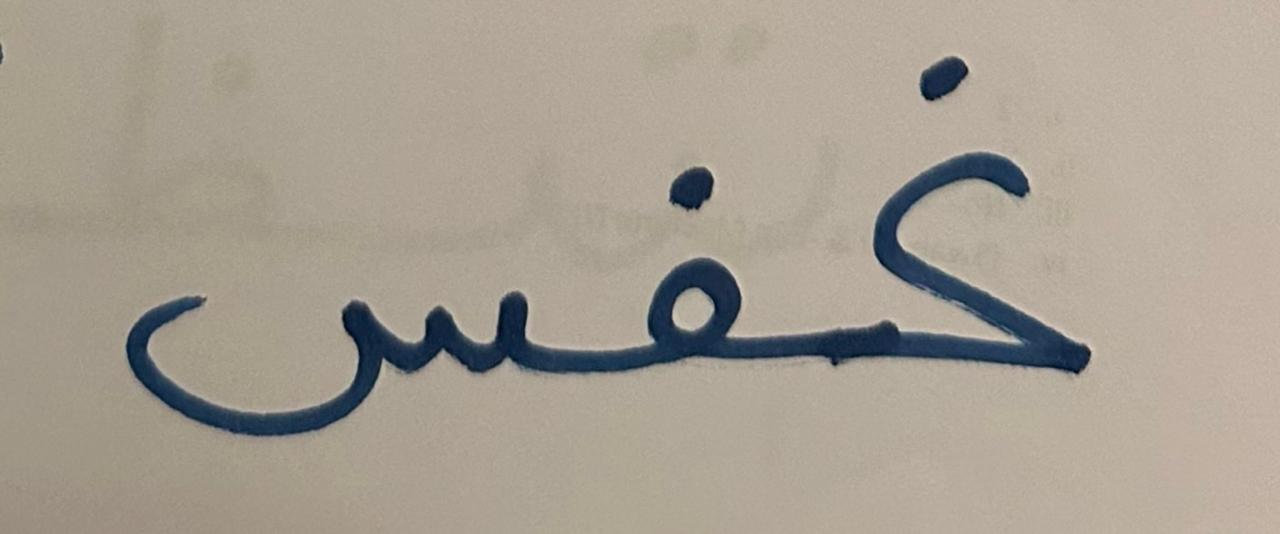feh: (564, 9, 805, 455)
ghain: (811, 6, 1142, 458)
sheen: (62, 35, 559, 460)
